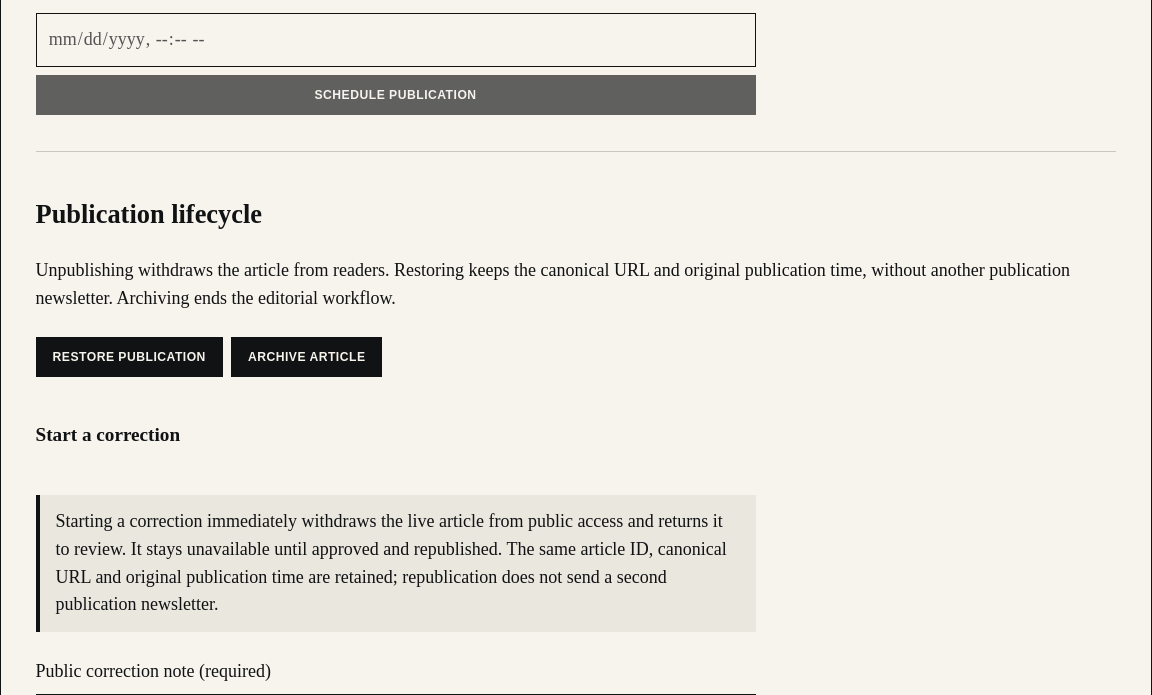
Scenario: Article workspace › offers the correct UNPUBLISHED lifecycle action: Restore publication
(page scrolled)
Click the button "Restore publication" at [129, 357], box [36,337,223,377]
(page scrolled)
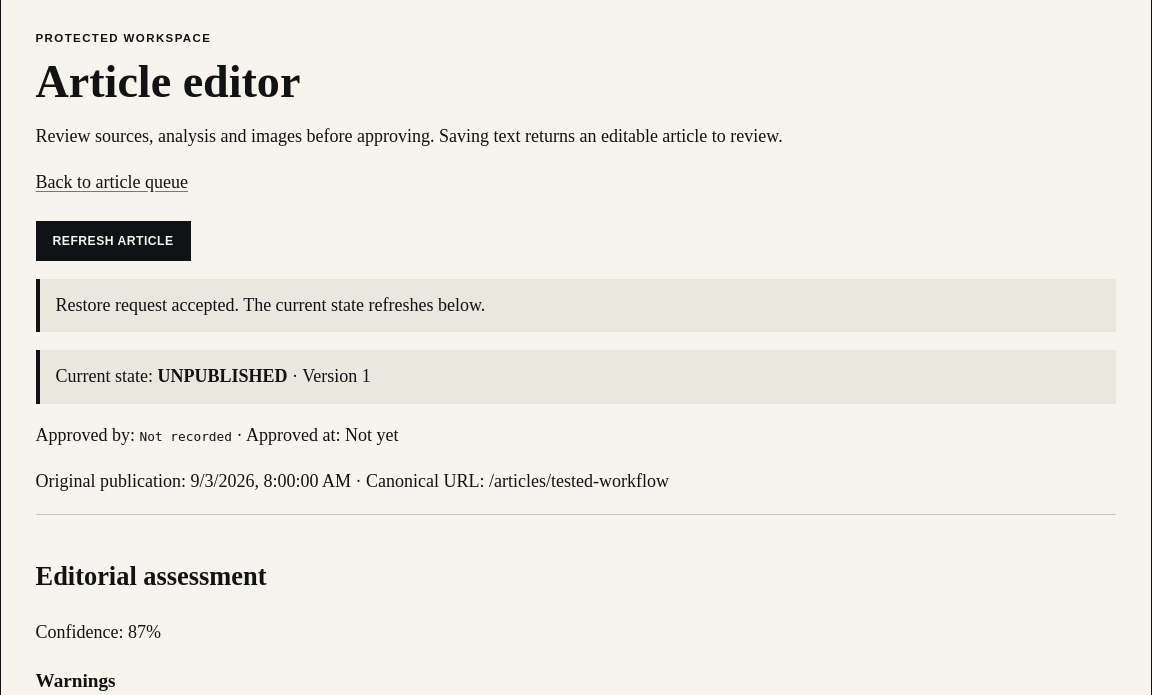
Check: the text "Restore request accepted. The current state refreshes below." is shown, box [36,279,1116,332]
